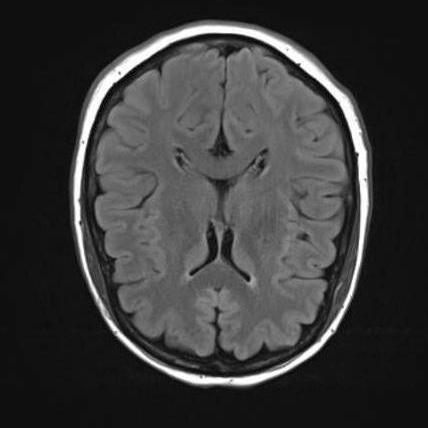Normal_Brain: (31, 1, 428, 422)
